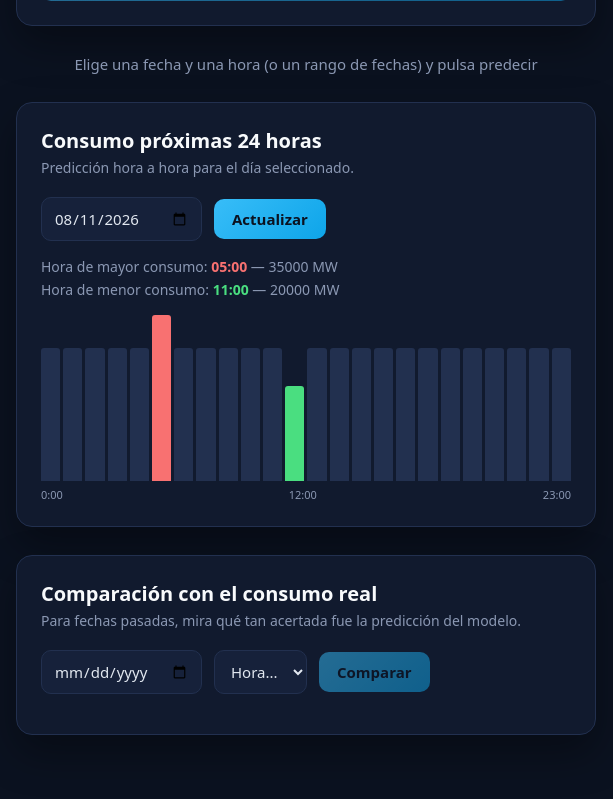
App (simulación de UI) › muestra "Sin dato real aún" cuando no hay consumo real
This screenshot has width=613, height=799.
(page scrolled)
Type "2026-08-11" into the date field named "Fecha de comparación". click: (122, 672)
box: [41,650,202,694]
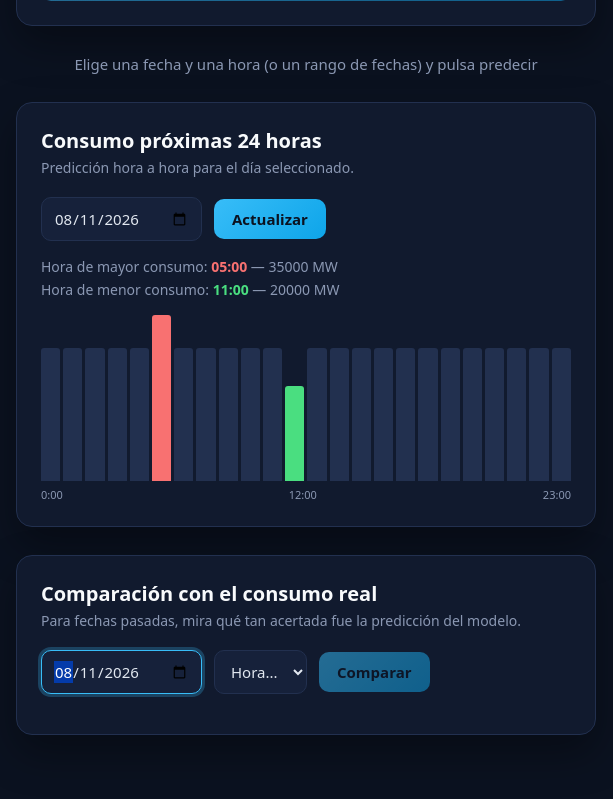
Select "14:00" in the dropdown named "Hora de comparación". click: (260, 672)
box: [214,650,307,694]
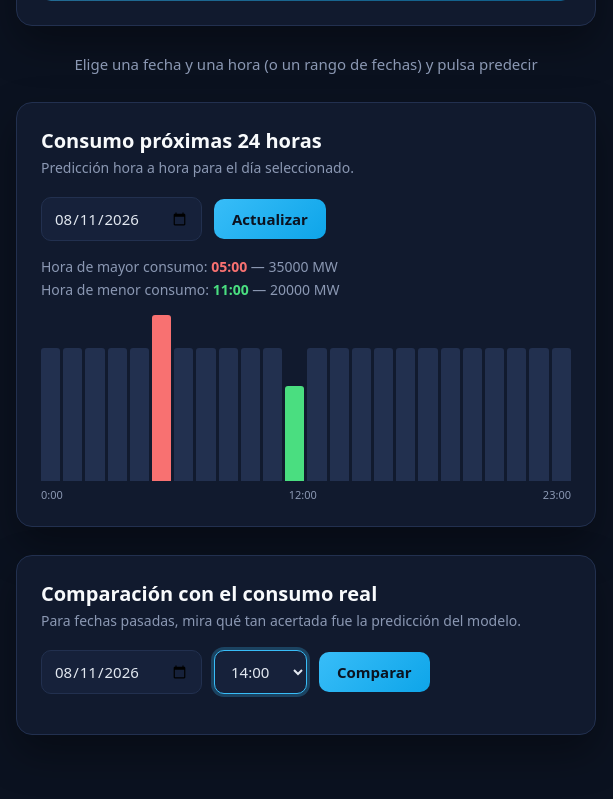
Click the button "Comparar". click: click(374, 672)
box: [319,652,430,692]
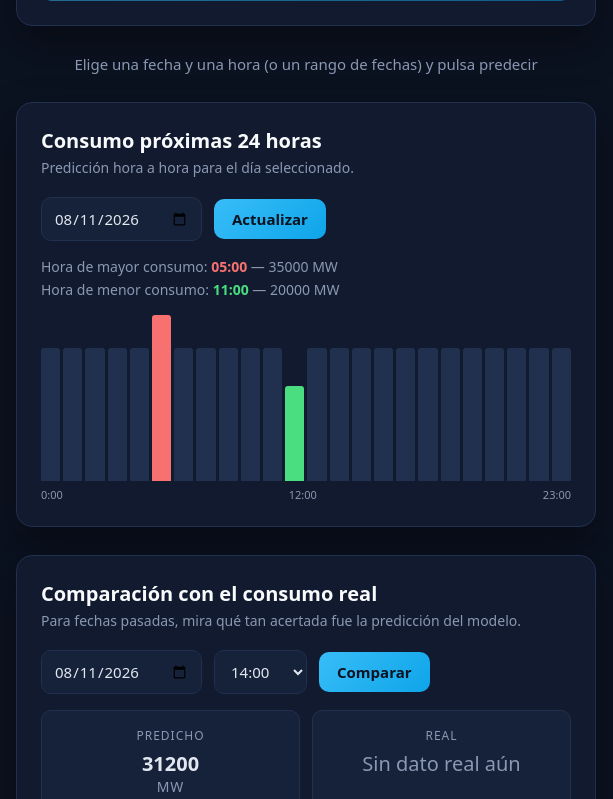
Result: the text "Sin dato real aún" is shown at [362,750,521,777]
